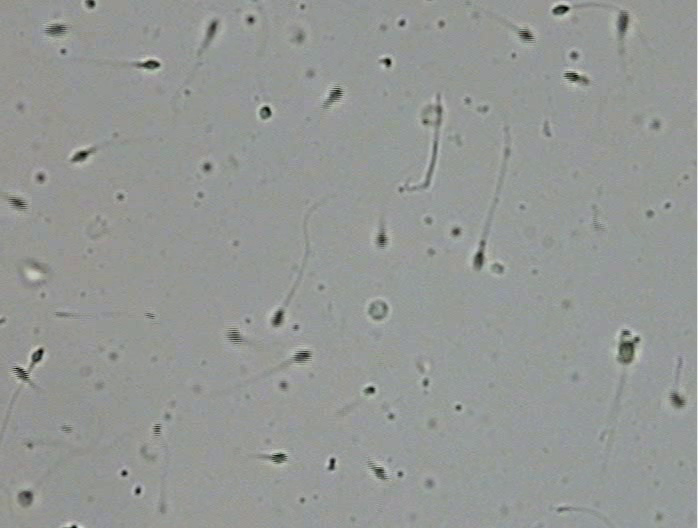Impurity: (368, 300, 389, 320)
S: (618, 341, 635, 364), (11, 365, 30, 381), (43, 24, 67, 36), (227, 326, 243, 344), (617, 10, 629, 34), (8, 196, 28, 210), (292, 350, 312, 364), (371, 464, 388, 480), (518, 28, 536, 43), (669, 393, 687, 408), (17, 491, 33, 507), (328, 86, 343, 103), (473, 251, 484, 271), (71, 150, 89, 162), (206, 21, 218, 38), (272, 309, 284, 326), (375, 233, 388, 248), (142, 60, 161, 70), (271, 453, 288, 464), (563, 71, 580, 82), (31, 348, 44, 362), (552, 5, 570, 15), (259, 106, 272, 119), (85, 1, 96, 9)
